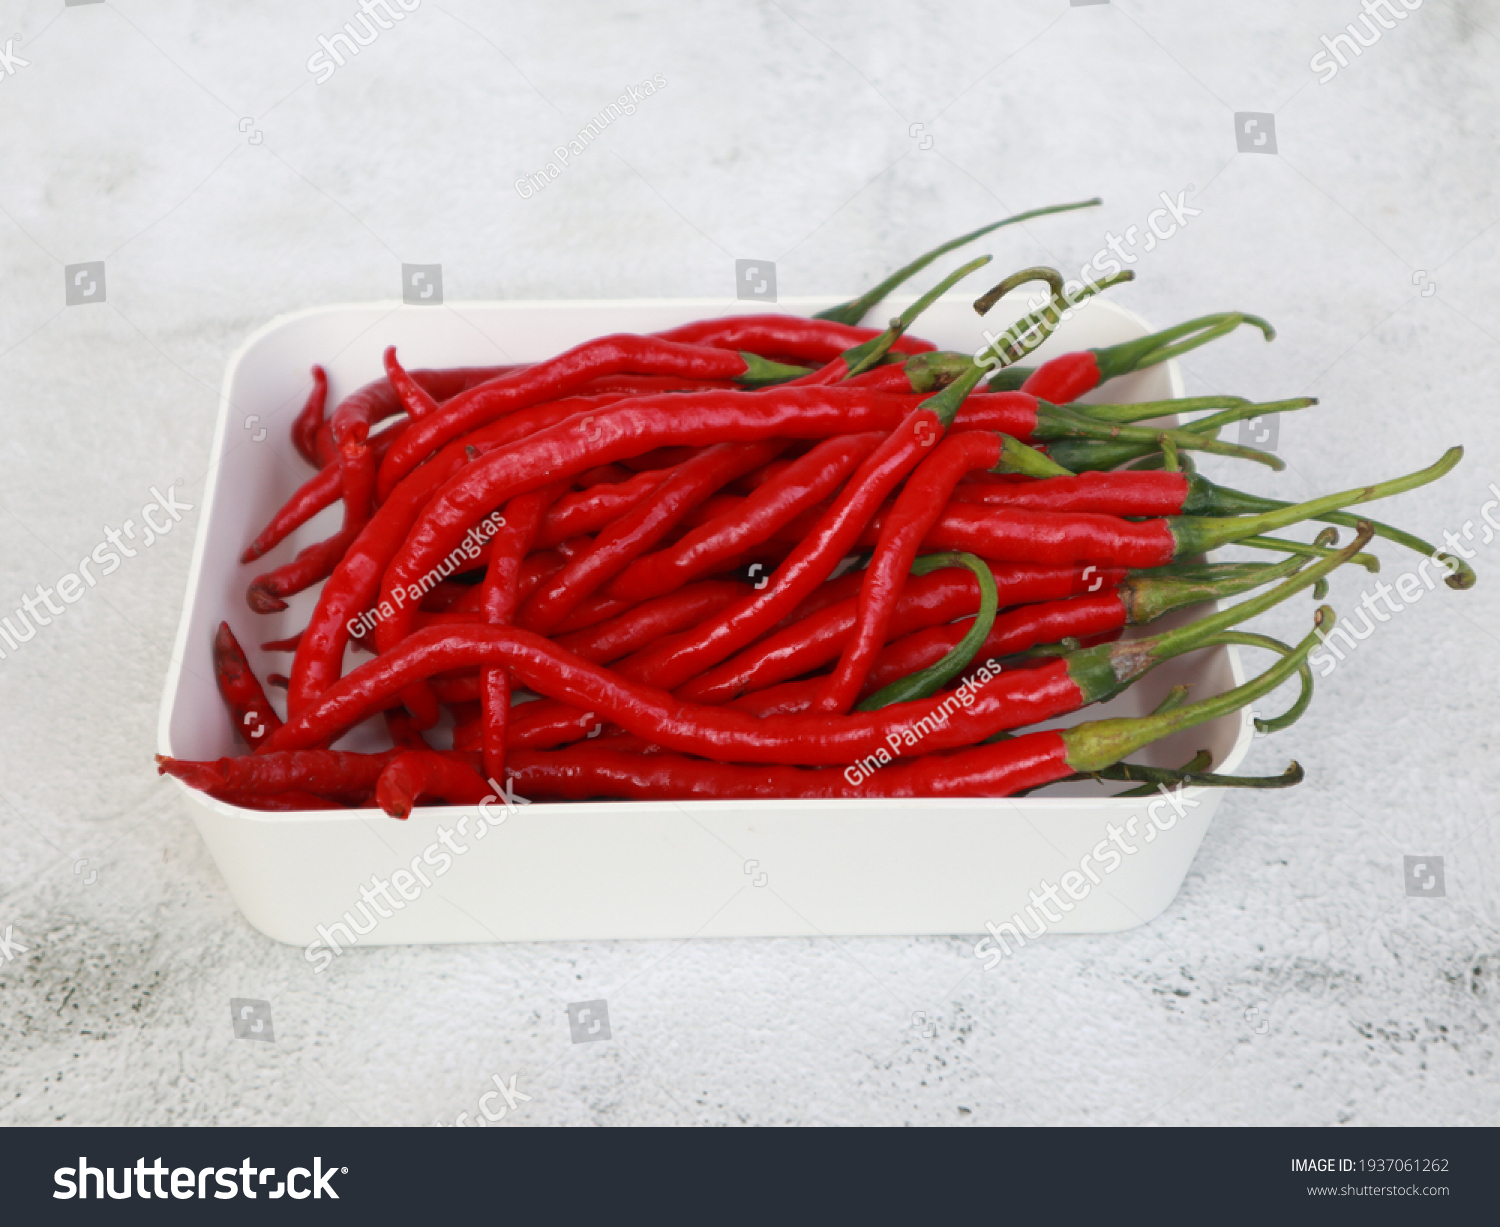Cabai: (173, 142, 1319, 989)
